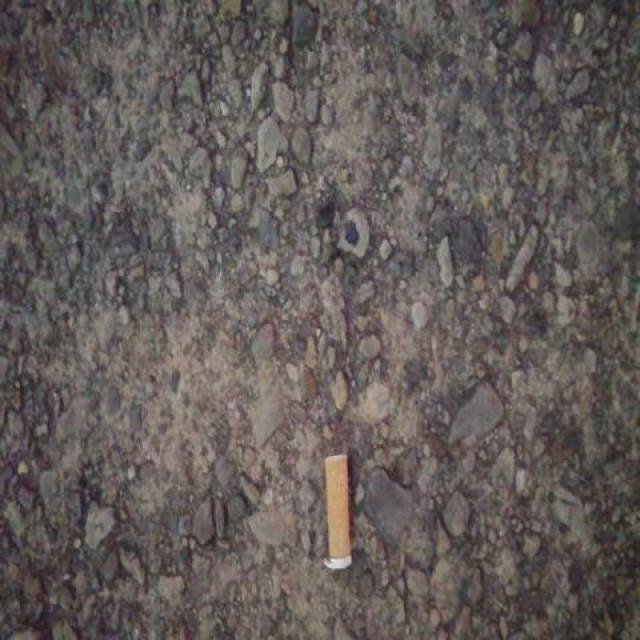non-organic waste: (318, 448, 357, 572)
